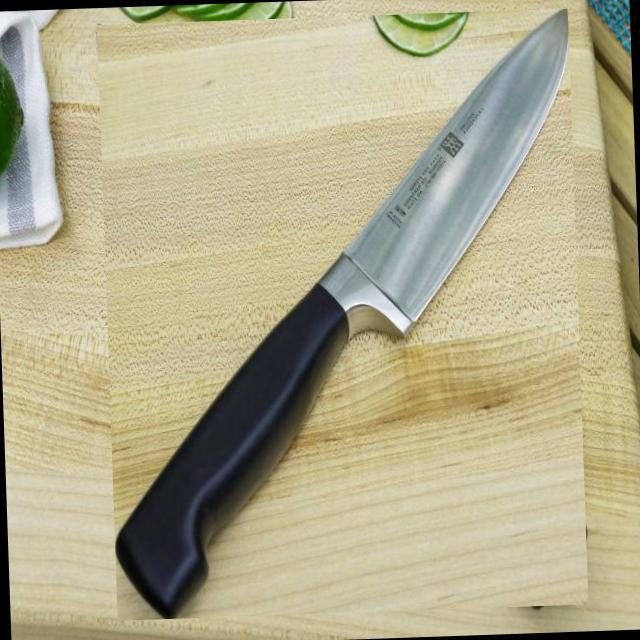Knife: (116, 8, 568, 618)
